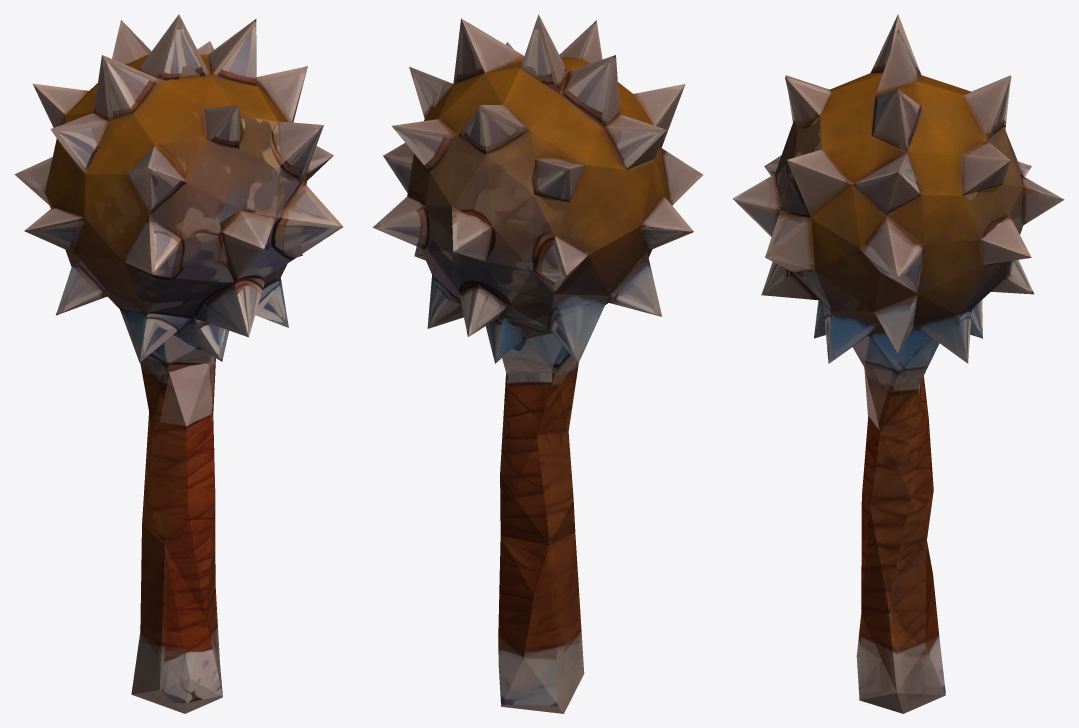
The model's file is mace_war_hammer.glb.
3 views of the same model, side by side, from view 1: azimuth 30°, elevation 25°; view 2: azimuth 150°, elevation 25°; view 3: azimuth 270°, elevation 25° (orthographic). The views are drawn at different scales.
Visible parts, largest first — view 1: TexturedMesh_.obj; view 2: TexturedMesh_.obj; view 3: TexturedMesh_.obj.
Part boxes in pixels (bbox=[...]): TexturedMesh_.obj: bbox=[14, 14, 343, 713]; TexturedMesh_.obj: bbox=[373, 14, 703, 713]; TexturedMesh_.obj: bbox=[732, 14, 1064, 713].
Size of the model in its own units: 0.9412 by 1.99 by 0.8941.
Materials: 1 (1 with a texture image).
